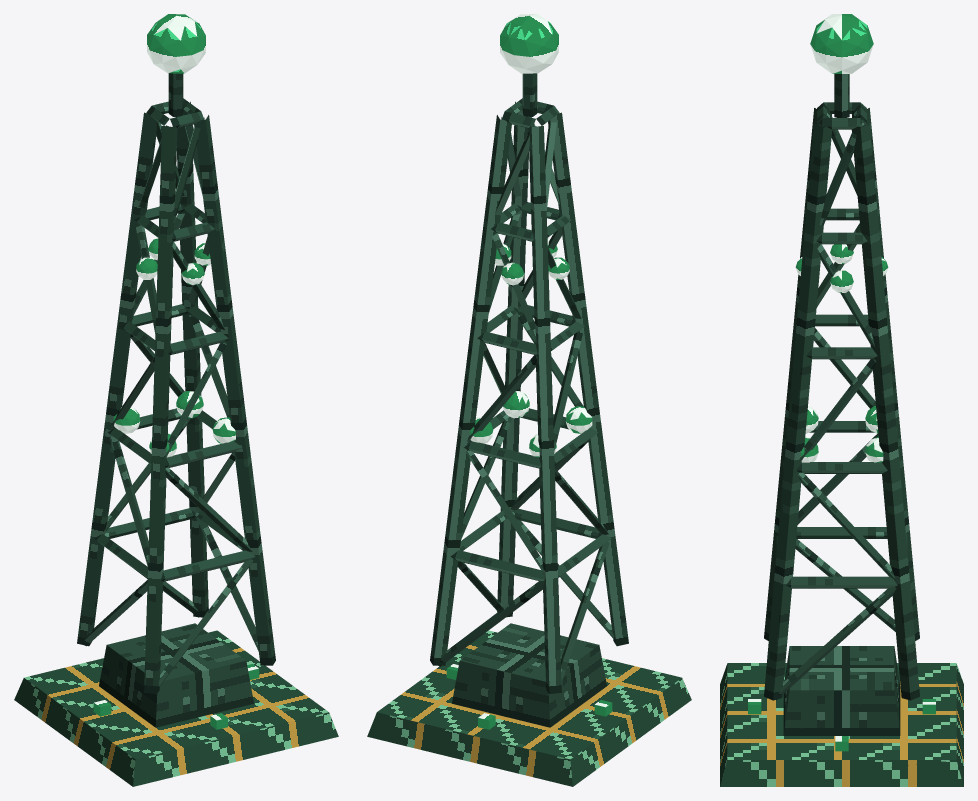
Rendered from circuit_pylon.glb.
The picture shows the model from 3 angles, left to right: view 1: azimuth 30°, elevation 25°; view 2: azimuth 150°, elevation 25°; view 3: azimuth 270°, elevation 25°; orthographic projection. The views are drawn at different scales.
Parts seen in each view (by area): view 1: circuit_pylon; view 2: circuit_pylon; view 3: circuit_pylon.
Part boxes in pixels (x1,y1,x2,y2): circuit_pylon: (14,14,338,786); circuit_pylon: (367,14,691,786); circuit_pylon: (720,14,963,786).
Bounding box in the file's own units: 0.92 × 3 × 0.92.
Materials: 3 (3 with a texture image).
